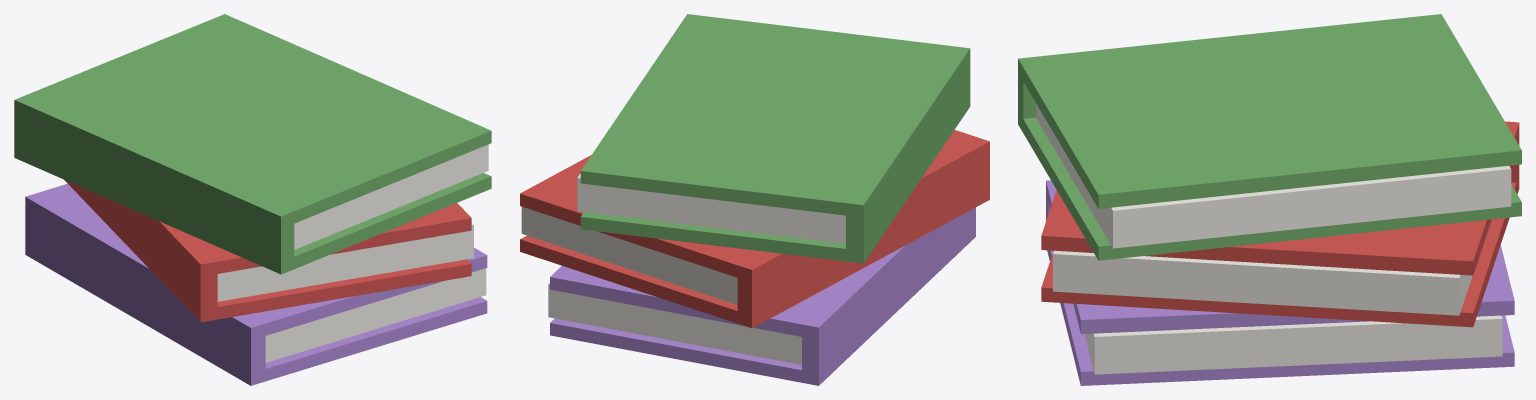
Rendered from deco_book_stack.obj.
3 renders of one model, left to right at view 1: azimuth 30°, elevation 25°; view 2: azimuth 150°, elevation 25°; view 3: azimuth 270°, elevation 25°, orthographic. The views are drawn at different scales.
Visible parts, largest first — view 1: deco_book_stack; view 2: deco_book_stack; view 3: deco_book_stack.
Part boxes in pixels (x1=…): deco_book_stack: x1=14, y1=14, x2=491, y2=385; deco_book_stack: x1=520, y1=14, x2=989, y2=385; deco_book_stack: x1=1018, y1=14, x2=1521, y2=385.
Bounding box in the file's own units: 0.0419 × 0.021 × 0.0485.
Materials: 1 (1 with a texture image).
